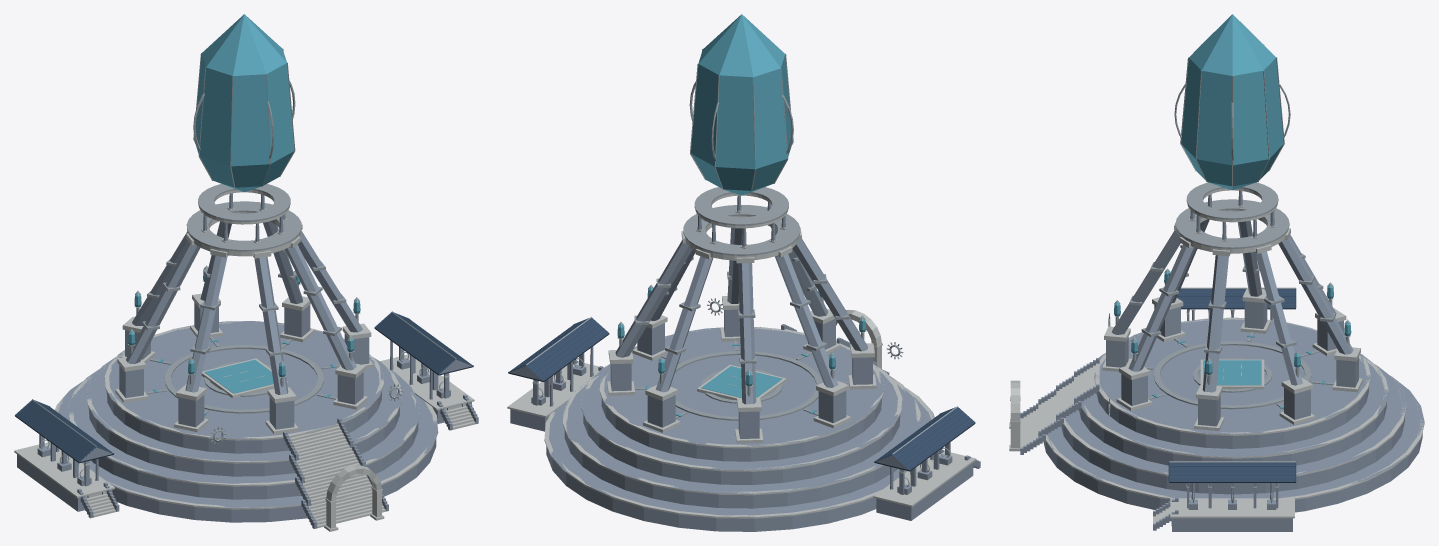
The model's file is sky-crystal.glb.
The picture shows the model from 3 angles, left to right: view 1: azimuth 30°, elevation 25°; view 2: azimuth 150°, elevation 25°; view 3: azimuth 270°, elevation 25°; orthographic projection. The views are drawn at different scales.
Parts seen in each view (by area): view 1: resonator-drum, suspension-ring, suspended-stone, observers, observers-roof; view 2: resonator-drum, suspension-ring, suspended-stone, observers, observers-roof; view 3: resonator-drum, suspension-ring, suspended-stone, observers, observers-roof.
Part boxes in pixels (<box>): resonator-drum: <box>55,321,438,528</box>; suspension-ring: <box>115,184,373,434</box>; suspended-stone: <box>193,14,295,192</box>; observers: <box>14,340,478,531</box>; observers-roof: <box>15,311,473,463</box>; resonator-drum: <box>544,324,934,531</box>; suspension-ring: <box>607,187,876,443</box>; suspended-stone: <box>689,14,793,195</box>; observers: <box>507,298,980,520</box>; observers-roof: <box>508,316,975,471</box>; resonator-drum: <box>1020,317,1424,512</box>; suspension-ring: <box>1102,182,1362,430</box>; suspended-stone: <box>1174,14,1290,190</box>; observers: <box>1009,309,1294,531</box>; observers-roof: <box>1168,287,1296,482</box>.
Bounding box in the file's own units: 40.55 × 41.82 × 37.12.
